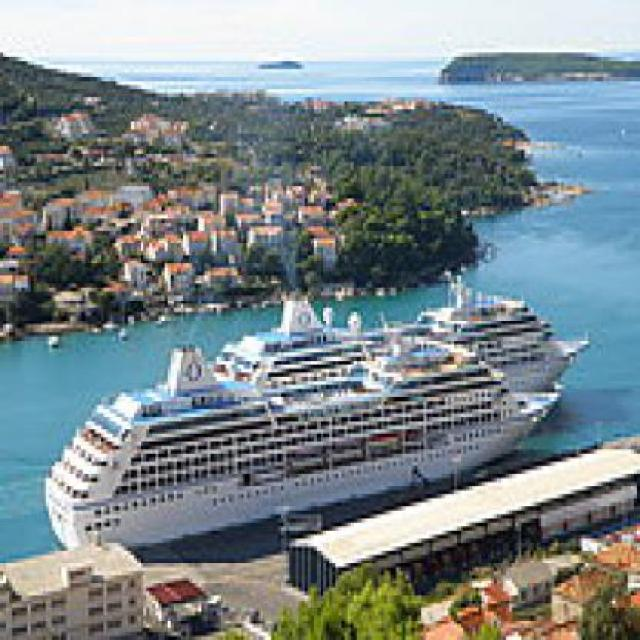cruise: (46, 330, 565, 561)
